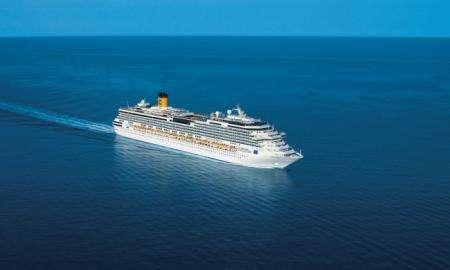youlun: (109, 89, 305, 171)
